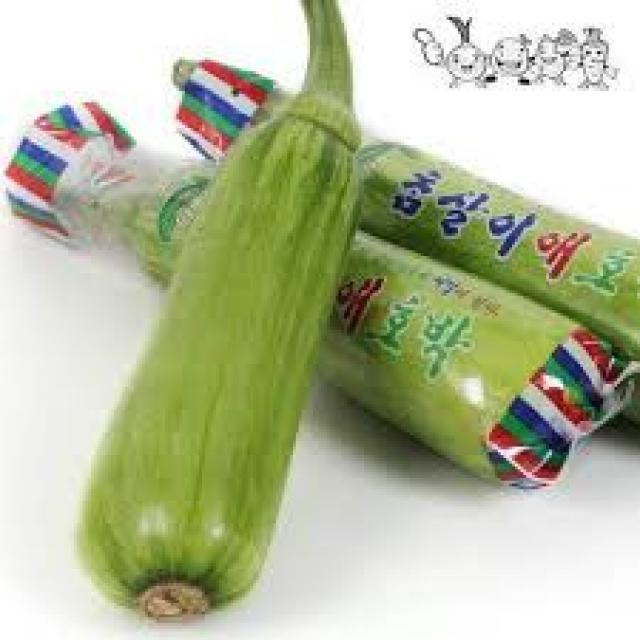yogurt: (82, 0, 361, 609)
